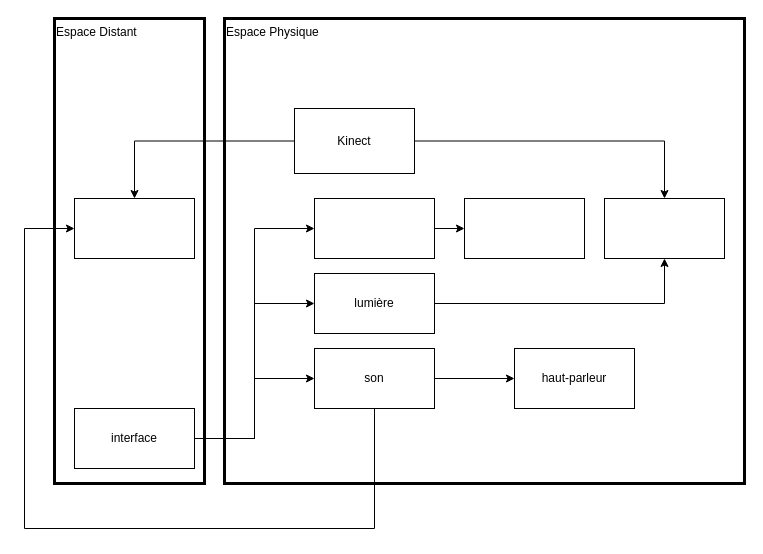
Image size: 763x554. Some labels were removed from this diagram. The box of each missing label's shape, as (x1, y1, x2, y2) in pixels:
Espace Vide: (604, 198, 724, 258)
Stream: (74, 198, 194, 258)
Surface(s): (464, 198, 584, 258)
vidéo: (314, 198, 434, 258)
